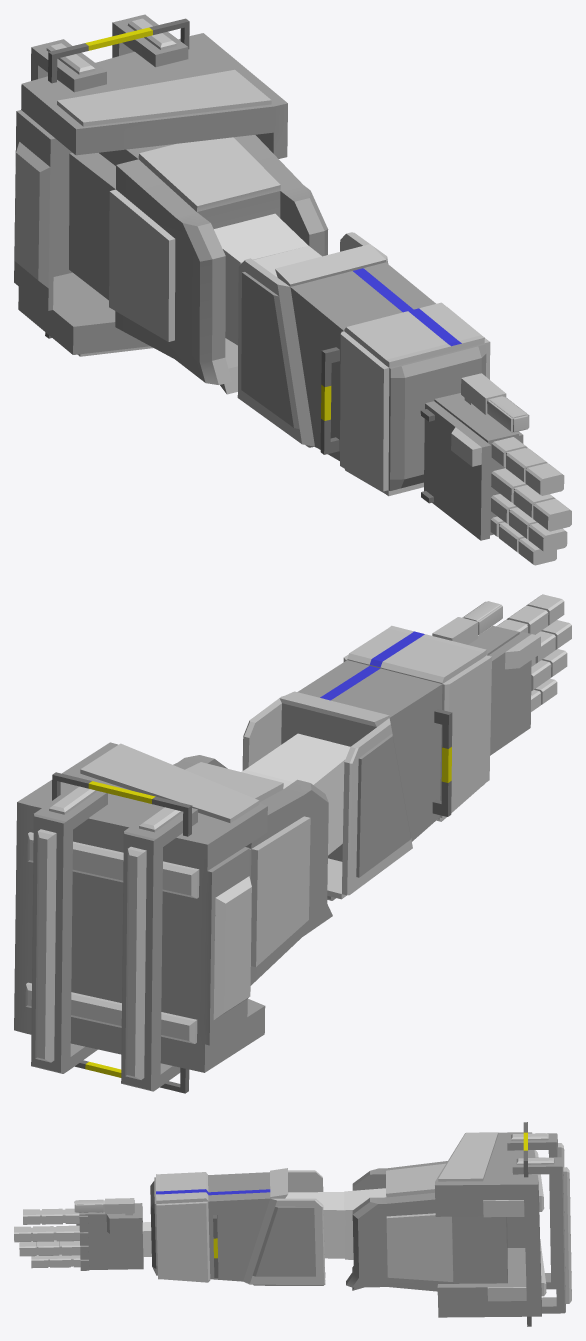
Rendered from Right_Arm_New_testModel.fbx.
3 views of the same model, one above another, from view 1: azimuth 30°, elevation 25°; view 2: azimuth 150°, elevation 25°; view 3: azimuth 270°, elevation 25° (orthographic). The views are drawn at different scales.
Visible parts, largest first — view 1: RightHand4; view 2: RightHand4; view 3: RightHand4.
Part boxes in pixels (box(x1,y1,x2,y2)): RightHand4: box(14, 14, 571, 565); RightHand4: box(14, 594, 571, 1093); RightHand4: box(14, 1122, 571, 1326).
Bounding box in the file's own units: 1.5 × 2.03 × 6.18.
